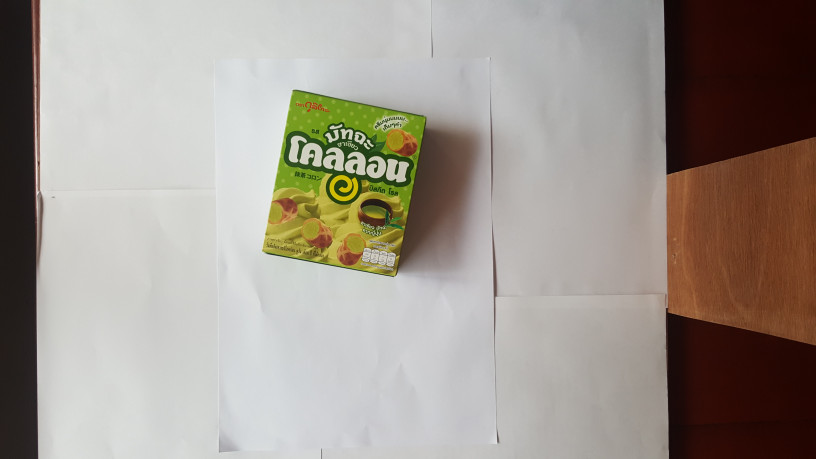collon-matcha: (259, 88, 427, 279)
